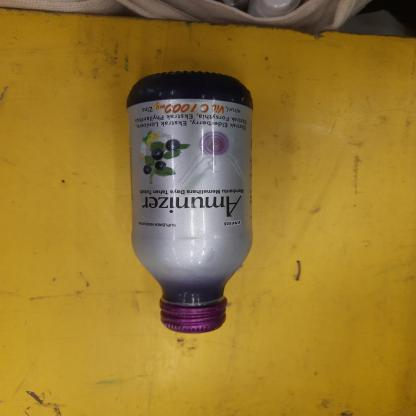keyboard: (117, 67, 268, 332)
